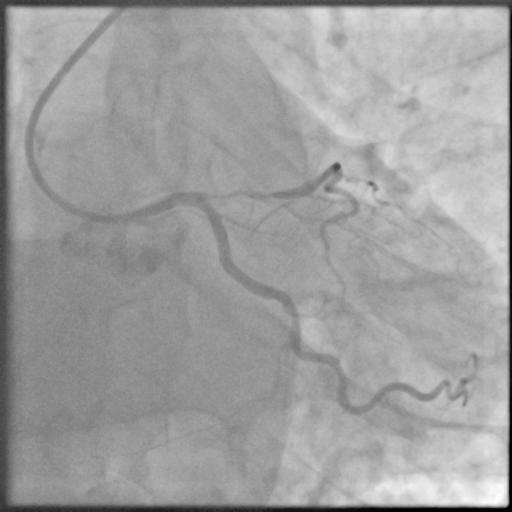Stenosis: (201, 185, 276, 196)
